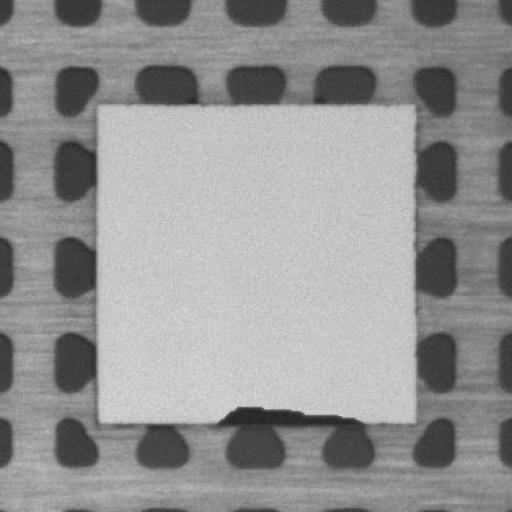DIE_BROKEN: (208, 402, 364, 430)
